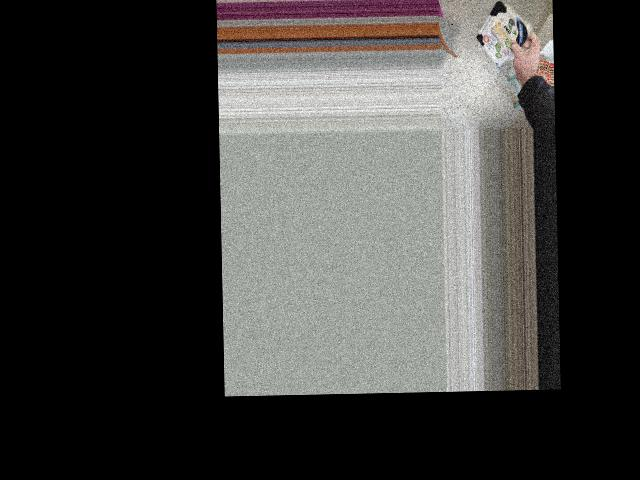cheese: (469, 1, 544, 57)
